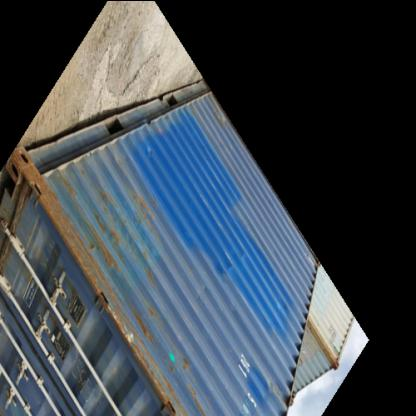Damage: (116, 258, 186, 356), (56, 176, 115, 264), (115, 191, 167, 265), (80, 265, 132, 328), (159, 350, 198, 413), (21, 158, 60, 192)
